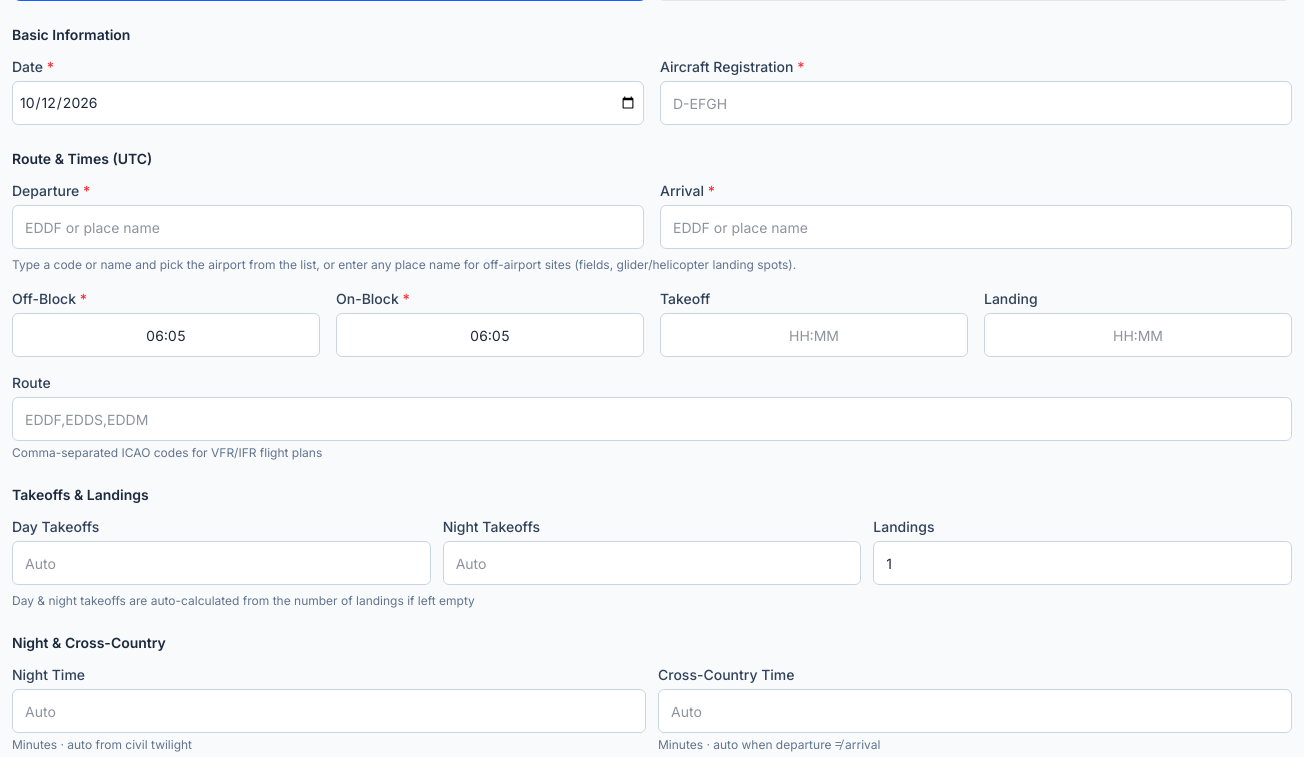
Test case: FlightForm Instrument Tracking › disables the block time buttons until both block times are set
Clear the field labelled "Off-Block *". click: (166, 335)
box: [12,313,320,357]
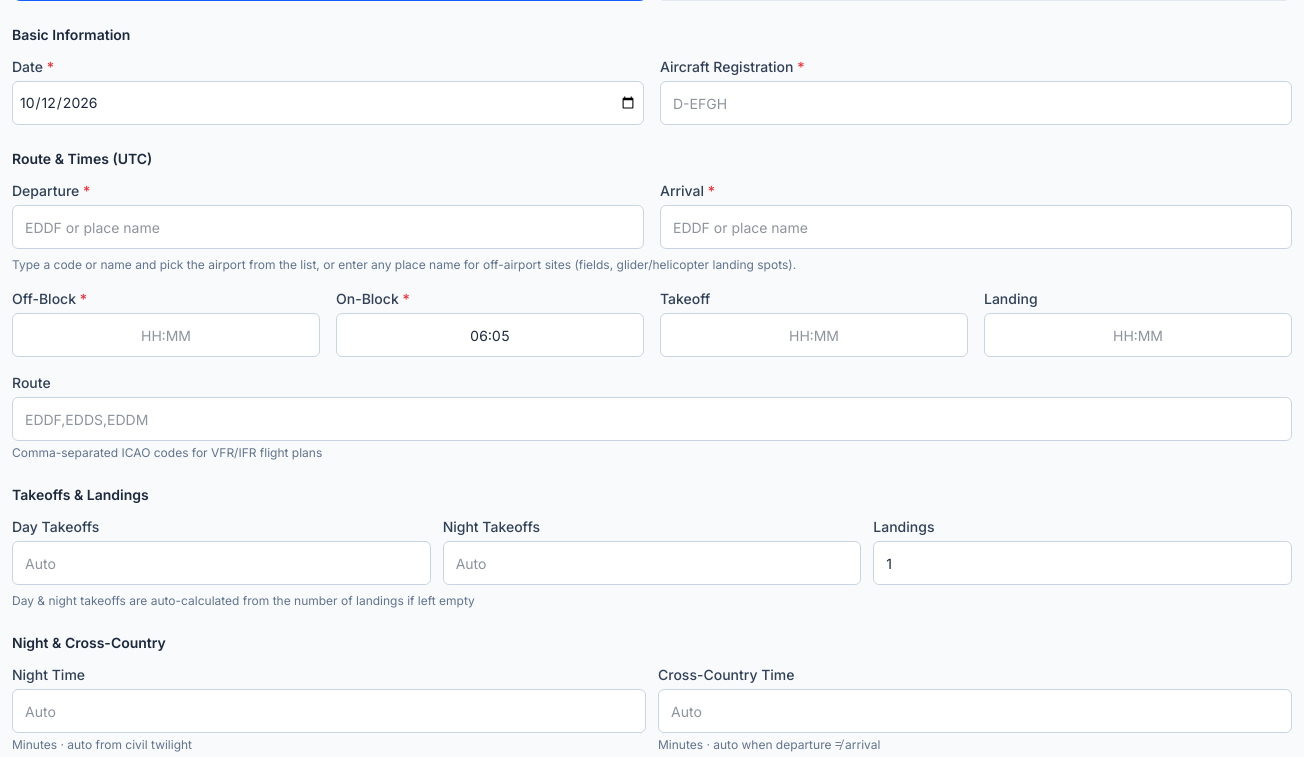
Clear the field labelled "On-Block *". click: (490, 335)
box: [336,313,644,357]
(page scrolled)
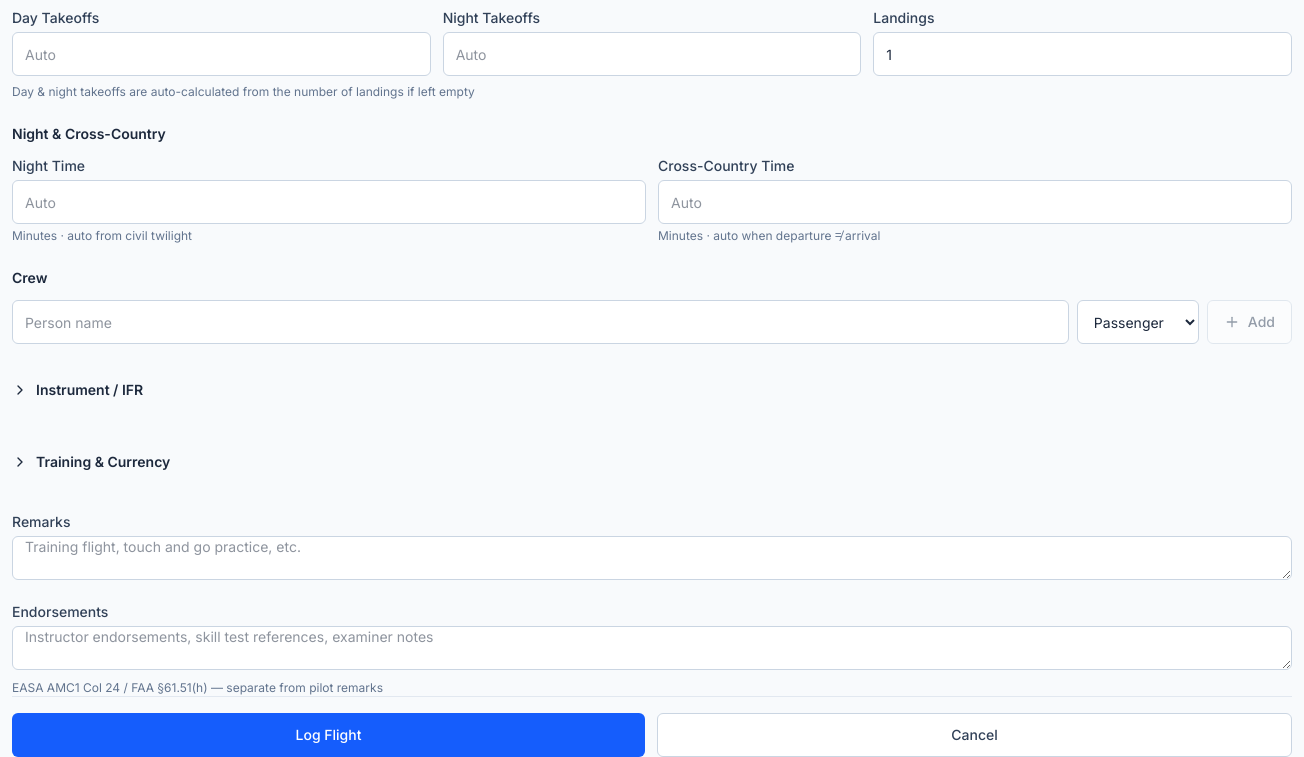
Click the button "Instrument / IFR". click: (90, 390)
box: [12,368,1292,412]
(page scrolled)
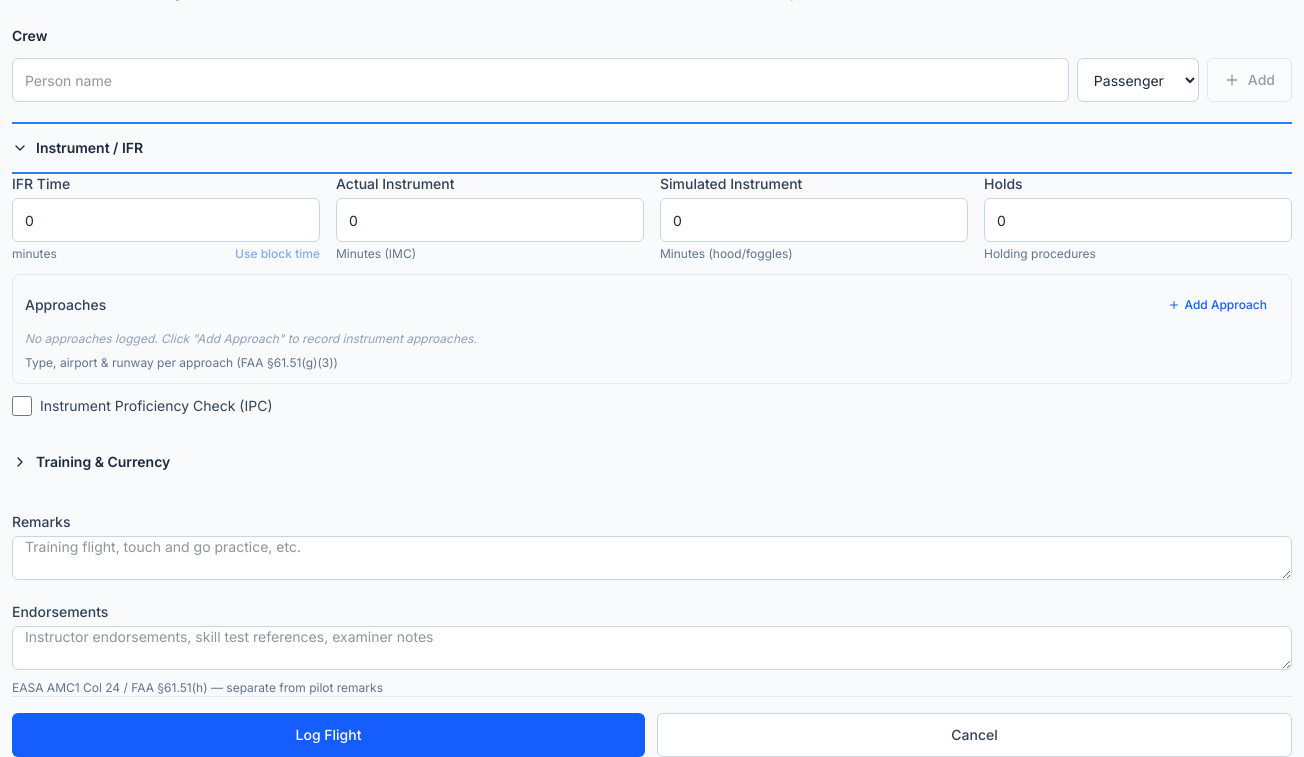
Click the button "Training & Currency". click: (103, 462)
box: [12,440,1292,484]
(page scrolled)
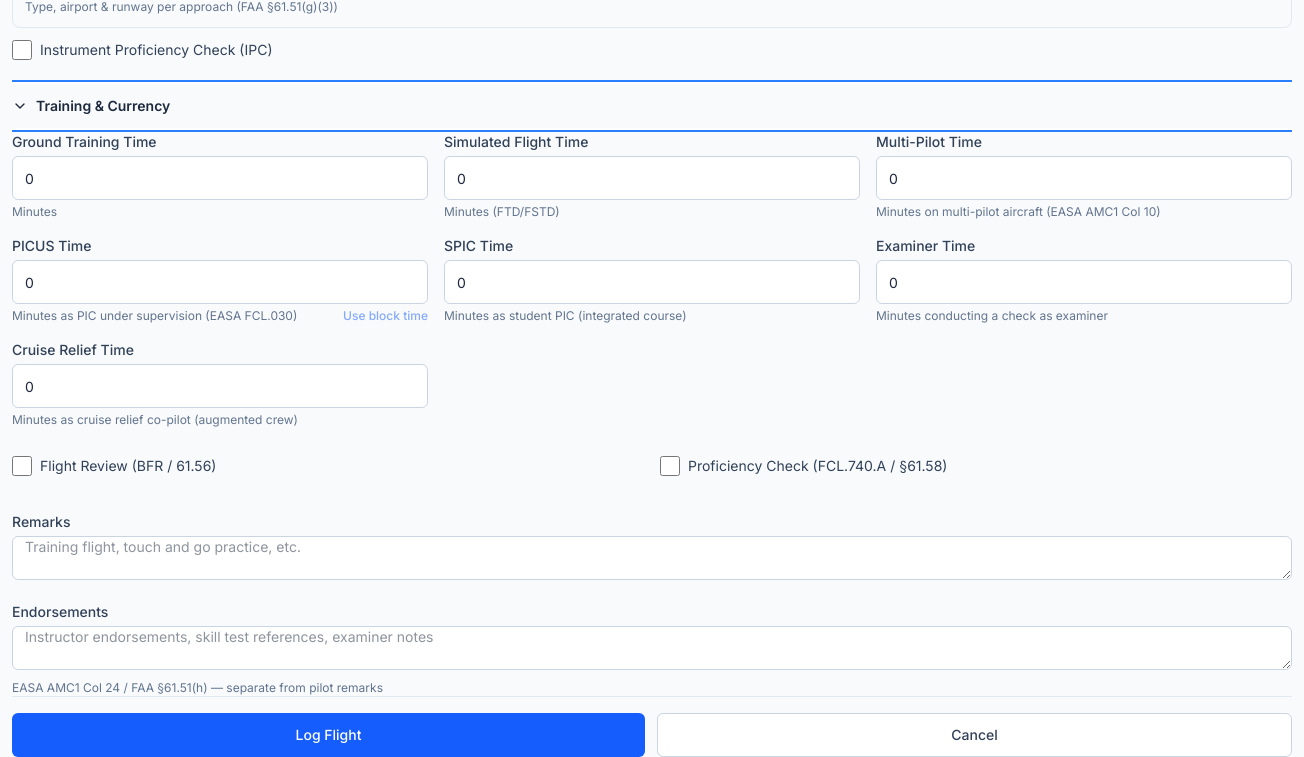
Now the button "Use block time" is disabled, box [343,294,428,338]
